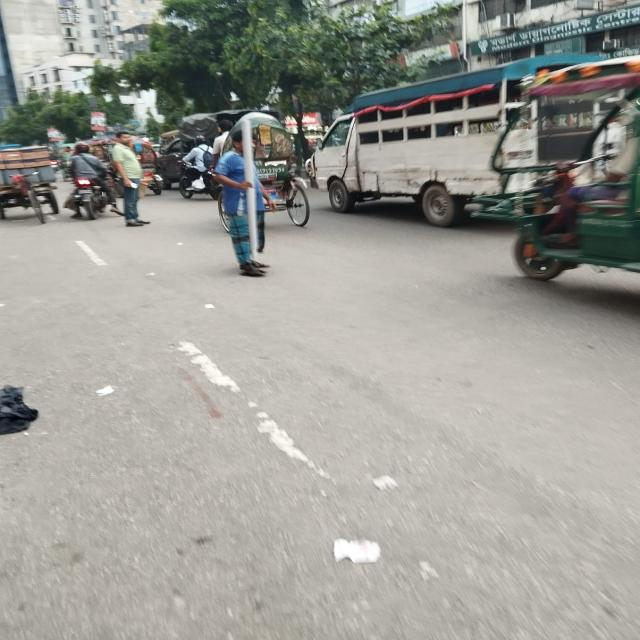person: (214, 131, 276, 277), (111, 131, 151, 228)
